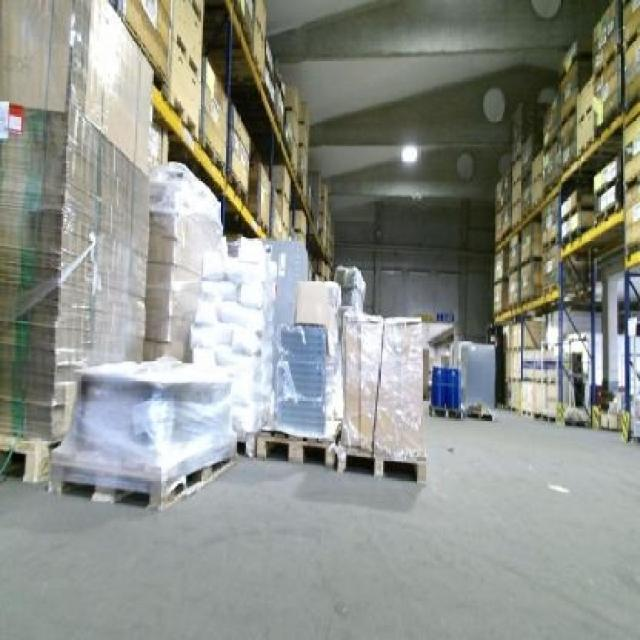floor: (0, 409, 637, 637)
pallets: (48, 357, 232, 505), (337, 311, 425, 478)
